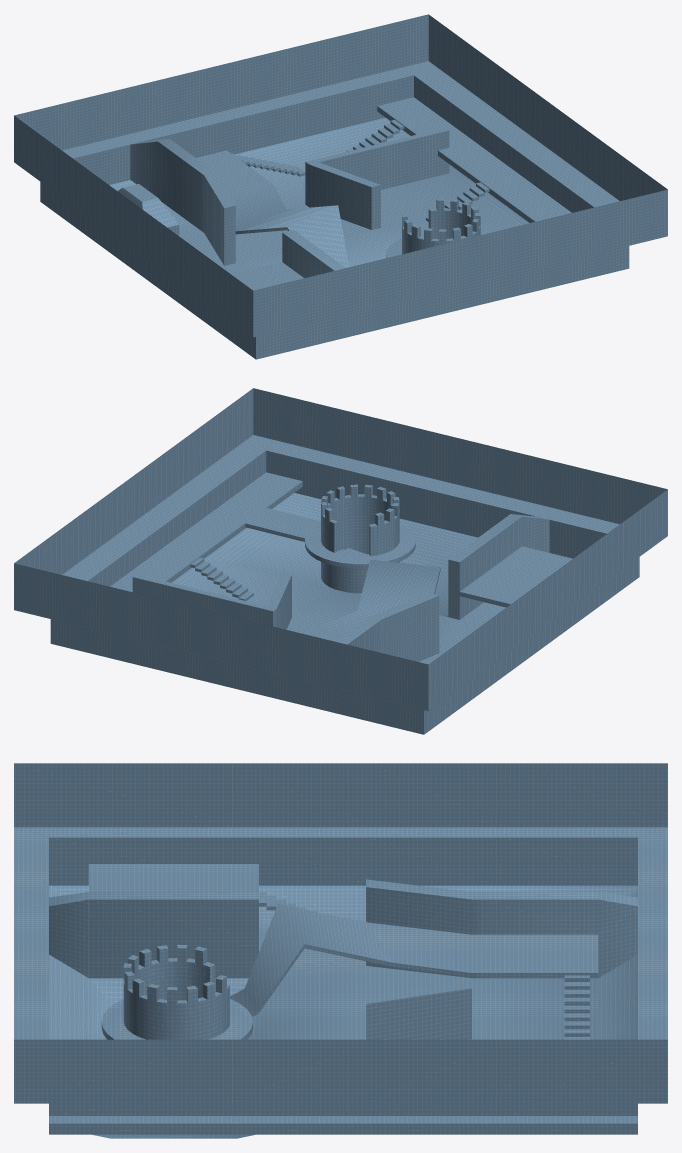
The model's file is collision-world.glb.
The picture shows the model from 3 angles, top to bottom: view 1: azimuth 30°, elevation 25°; view 2: azimuth 150°, elevation 25°; view 3: azimuth 270°, elevation 25°; orthographic projection. The views are drawn at different scales.
Visible parts, largest first — view 1: Cube.004; view 2: Cube.004; view 3: Cube.004.
Part boxes in pixels (box(x1,y1,x2,y2)): Cube.004: box(14, 14, 667, 359); Cube.004: box(14, 388, 667, 734); Cube.004: box(14, 763, 667, 1138).
Size of the model in its own units: 34.36 by 8.6 by 34.36.
Materials: 1 (1 with a texture image).
